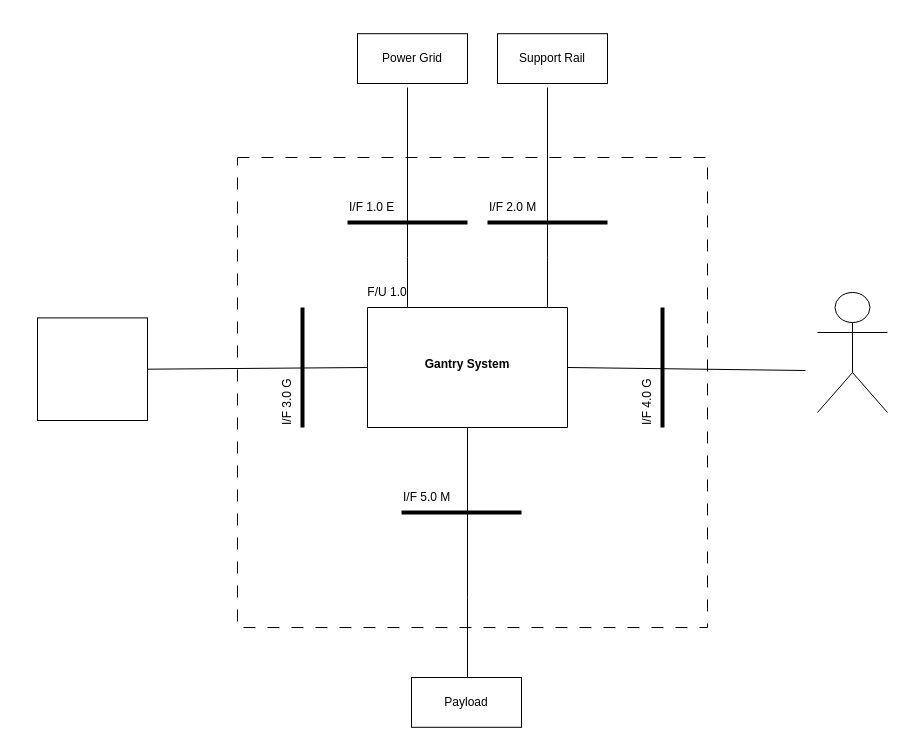
This 905x745 diagram has some shape labels left out. Here are the shapes that lost their labels. From the top down, the centre of each, then its label:
[92,368]: Environment
[852,352]: Operator
